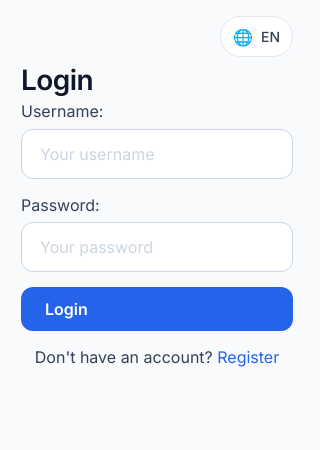
Test: LoginPage › account lockout (429) › shows the generic error message for a non-lockout failure
The width and height of the screenshot is (320, 450).
Type "aaryanlifts" into the field labelled "Username:". click: (157, 154)
box: [21,129,293,179]
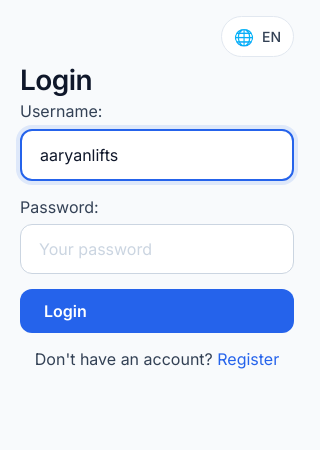
Type "wrongpass" into the password field labelled "Password:". click: (157, 249)
box: [20,224,294,274]
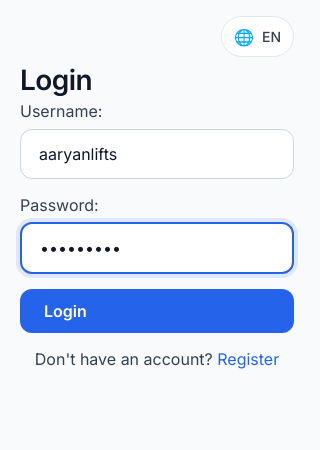
Click the button "Login". click: (65, 311)
box: [20,289,294,333]
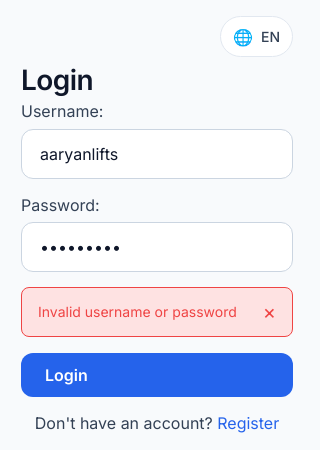
Result: the text "Invalid username or password" is shown at [38,300,237,323]
